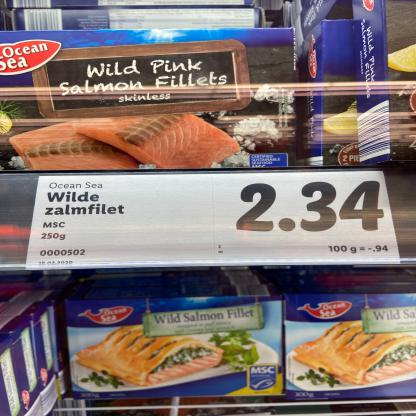prtg: (26, 172, 402, 271)
